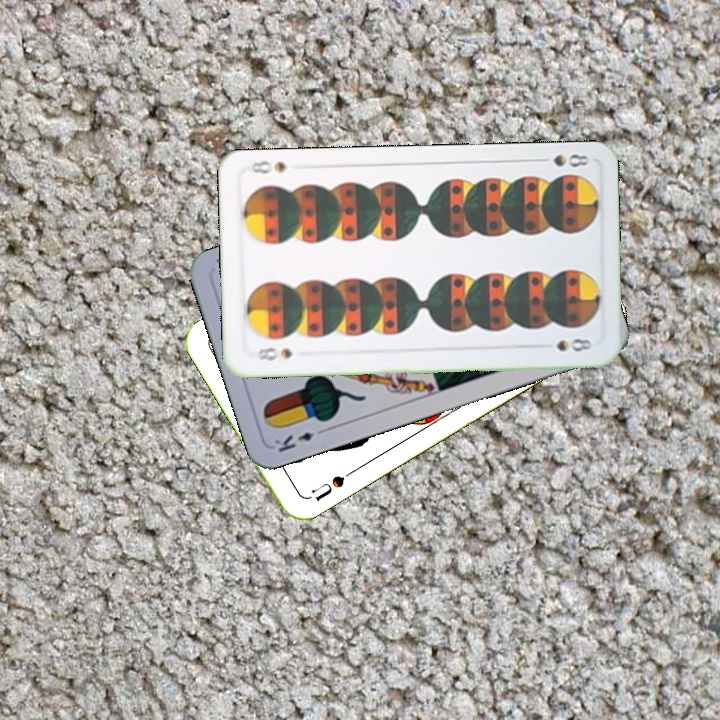EK: (270, 424, 329, 455)
S8: (532, 149, 592, 173), (251, 343, 294, 363)
SU: (307, 465, 357, 504)
